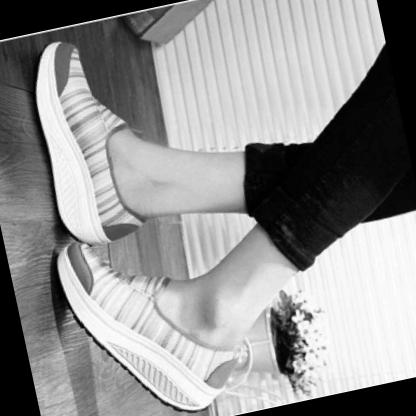ankle: (175, 329, 182, 334), (110, 180, 115, 185)
heel: (108, 236, 113, 241), (218, 385, 223, 389)
left_foot: (24, 32, 149, 251)
pinky: (78, 269, 85, 276), (77, 64, 80, 67)
right_foot: (54, 221, 251, 416)
toe: (55, 57, 60, 62), (91, 253, 96, 258)
